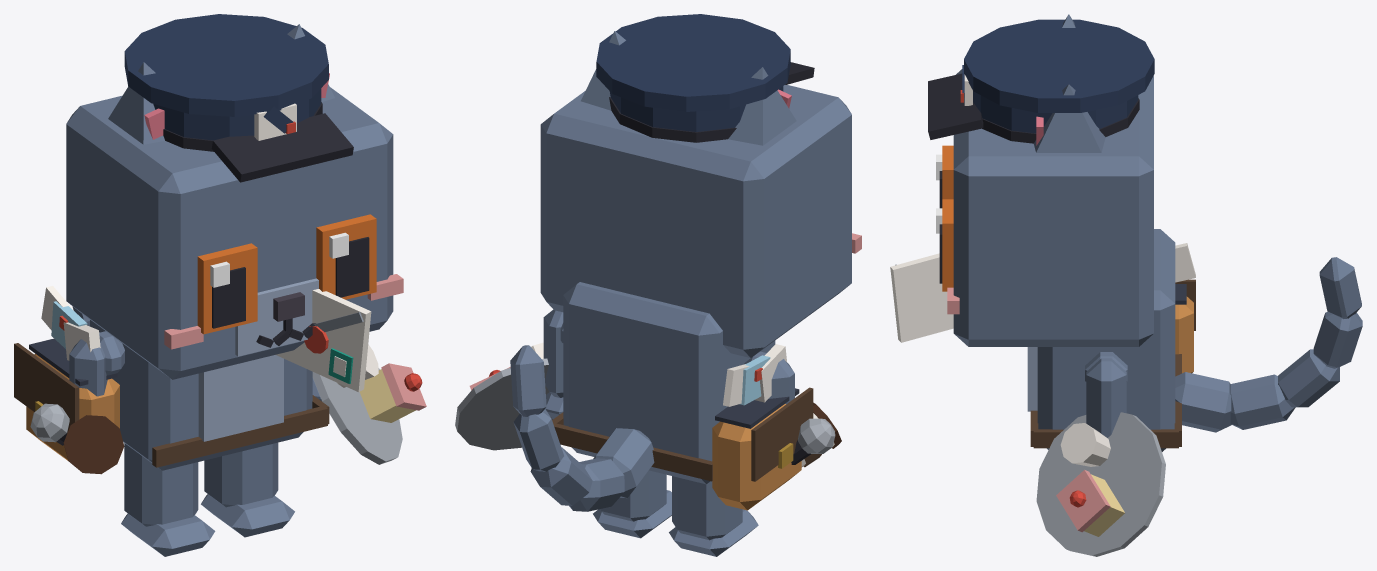
File: CatCafe_Cat_Postie_Work.glb
3 views of the same model, side by side, from view 1: azimuth 30°, elevation 25°; view 2: azimuth 150°, elevation 25°; view 3: azimuth 270°, elevation 25° (orthographic). The views are drawn at different scales.
Visible parts, largest first — view 1: CatCafe_Cat_Postie_Work_Head, CatCafe_Cat_Postie_Work_Prop, CatCafe_Cat_Postie_Work_Body, CatCafe_Cat_Postie_Work_Held_Waiter, CatCafe_Cat_Postie_Work_LegB2, CatCafe_Cat_Postie_Work_LegB1, CatCafe_Cat_Postie_Work_Prop2, CatCafe_Cat_Postie_Work_Eye2, CatCafe_Cat_Postie_Work_Eye1, CatCafe_Cat_Postie_Work_Held_Barista, CatCafe_Cat_Postie_Work_EarR, CatCafe_Cat_Postie_Work_LegF2 (+1 smaller); view 2: CatCafe_Cat_Postie_Work_Head, CatCafe_Cat_Postie_Work_Body, CatCafe_Cat_Postie_Work_Prop, CatCafe_Cat_Postie_Work_Tail, CatCafe_Cat_Postie_Work_LegB2, CatCafe_Cat_Postie_Work_Held_Waiter, CatCafe_Cat_Postie_Work_LegB1, CatCafe_Cat_Postie_Work_EarR, CatCafe_Cat_Postie_Work_LegF1, CatCafe_Cat_Postie_Work_Held_Entertainer, CatCafe_Cat_Postie_Work_EarL, CatCafe_Cat_Postie_Work_LegF2; view 3: CatCafe_Cat_Postie_Work_Head, CatCafe_Cat_Postie_Work_Prop, CatCafe_Cat_Postie_Work_Body, CatCafe_Cat_Postie_Work_Held_Waiter, CatCafe_Cat_Postie_Work_Tail, CatCafe_Cat_Postie_Work_Prop2, CatCafe_Cat_Postie_Work_LegF1, CatCafe_Cat_Postie_Work_EarL, CatCafe_Cat_Postie_Work_Eye1, CatCafe_Cat_Postie_Work_Eye2.
Part boxes in pixels (<box>): CatCafe_Cat_Postie_Work_Head: <box>66,87,403,379</box>; CatCafe_Cat_Postie_Work_Prop: <box>124,14,353,182</box>; CatCafe_Cat_Postie_Work_Body: <box>14,286,329,470</box>; CatCafe_Cat_Postie_Work_Held_Waiter: <box>312,344,426,464</box>; CatCafe_Cat_Postie_Work_LegB2: <box>121,443,215,556</box>; CatCafe_Cat_Postie_Work_LegB1: <box>201,442,294,537</box>; CatCafe_Cat_Postie_Work_Prop2: <box>275,289,371,392</box>; CatCafe_Cat_Postie_Work_Eye2: <box>197,243,257,334</box>; CatCafe_Cat_Postie_Work_Eye1: <box>316,214,376,299</box>; CatCafe_Cat_Postie_Work_Held_Barista: <box>63,415,124,474</box>; CatCafe_Cat_Postie_Work_EarR: <box>108,62,164,144</box>; CatCafe_Cat_Postie_Work_LegF2: <box>69,339,107,396</box>; CatCafe_Cat_Postie_Work_Head: <box>540,85,861,357</box>; CatCafe_Cat_Postie_Work_Body: <box>552,282,813,510</box>; CatCafe_Cat_Postie_Work_Prop: <box>596,14,814,142</box>; CatCafe_Cat_Postie_Work_Tail: <box>510,345,654,511</box>; CatCafe_Cat_Postie_Work_LegB2: <box>669,476,758,556</box>; CatCafe_Cat_Postie_Work_Held_Waiter: <box>455,342,552,450</box>; CatCafe_Cat_Postie_Work_LegB1: <box>593,470,671,538</box>; CatCafe_Cat_Postie_Work_EarR: <box>728,67,796,145</box>; CatCafe_Cat_Postie_Work_LegF1: <box>543,309,563,419</box>; CatCafe_Cat_Postie_Work_Held_Entertainer: <box>791,418,835,464</box>; CatCafe_Cat_Postie_Work_EarL: <box>581,31,625,110</box>; CatCafe_Cat_Postie_Work_LegF2: <box>768,359,794,404</box>; CatCafe_Cat_Postie_Work_Head: <box>947,69,1153,346</box>; CatCafe_Cat_Postie_Work_Prop: <box>928,19,1154,143</box>; CatCafe_Cat_Postie_Work_Body: <box>1027,229,1195,451</box>; CatCafe_Cat_Postie_Work_Held_Waiter: <box>1036,412,1165,556</box>; CatCafe_Cat_Postie_Work_Tail: <box>1175,257,1362,432</box>; CatCafe_Cat_Postie_Work_Prop2: <box>890,253,953,342</box>; CatCafe_Cat_Postie_Work_LegF1: <box>1086,358,1126,437</box>; CatCafe_Cat_Postie_Work_EarL: <box>1033,84,1105,152</box>; CatCafe_Cat_Postie_Work_Eye1: <box>936,199,953,291</box>; CatCafe_Cat_Postie_Work_Eye2: <box>936,145,953,208</box>.
Size of the model in its own units: 1.53 by 1.93 by 1.79.
Materials: 1 (1 with a texture image).
